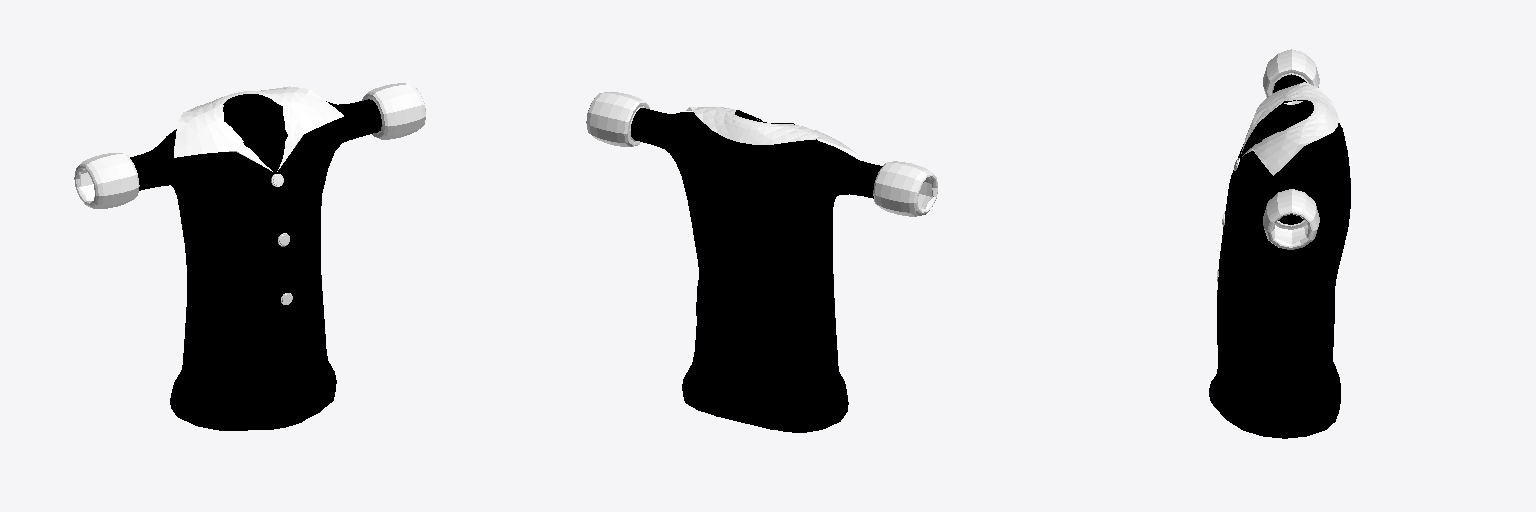
File: body.obj
3 renders of one model, left to right at view 1: azimuth 30°, elevation 25°; view 2: azimuth 150°, elevation 25°; view 3: azimuth 270°, elevation 25°, orthographic.
Visible parts, largest first — view 1: PopeyeGeo shirt1; view 2: PopeyeGeo shirt1; view 3: PopeyeGeo shirt1.
Part boxes in pixels (left/top/right/bottom): PopeyeGeo shirt1: left=74, top=83, right=425, bottom=430; PopeyeGeo shirt1: left=586, top=92, right=937, bottom=432; PopeyeGeo shirt1: left=1209, top=49, right=1350, bottom=438.
Size of the model in its own units: 2.78 by 2.38 by 1.04.